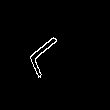L_NE: (33, 29, 77, 81)
